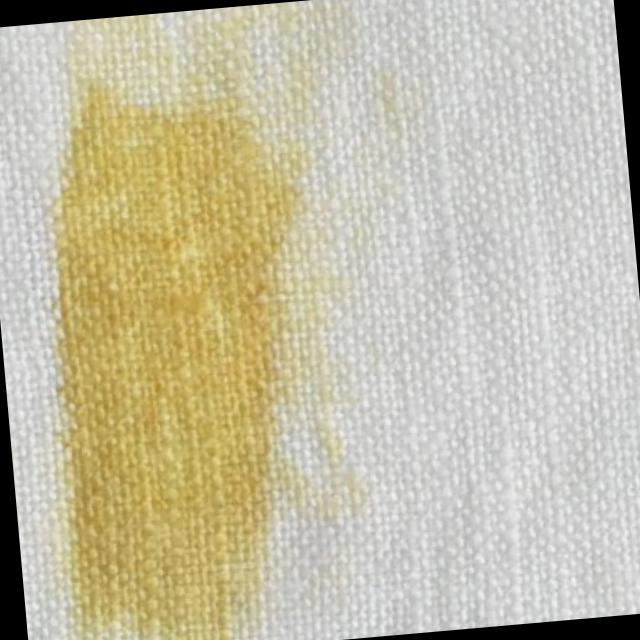Stain: (20, 0, 397, 640)
